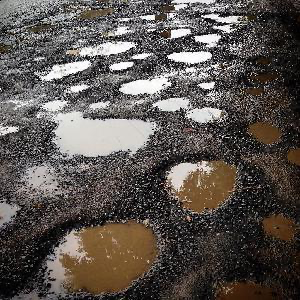pothole: (33, 215, 164, 298), (45, 113, 162, 162), (162, 155, 241, 214), (192, 264, 291, 300), (253, 204, 300, 245), (66, 38, 140, 58), (243, 117, 285, 147), (37, 59, 95, 80), (199, 11, 253, 32), (117, 75, 174, 94), (184, 106, 230, 126), (1, 198, 26, 230), (166, 48, 212, 64), (151, 96, 192, 112), (157, 27, 197, 39), (194, 33, 224, 44), (109, 61, 134, 72), (285, 146, 300, 164), (198, 80, 217, 91)
